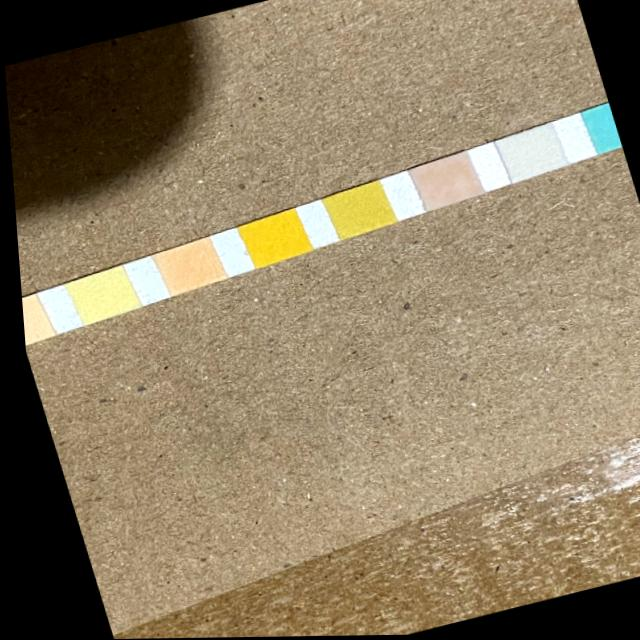Bilirubin: (494, 129, 558, 179)
Blood: (238, 213, 302, 265)
Glucose: (582, 108, 619, 151)
Ketone: (409, 156, 474, 209)
Protein: (65, 269, 127, 321)
SpGravity: (326, 185, 387, 235)
Urobilinogen: (17, 299, 40, 342)
pH: (153, 240, 216, 292)
